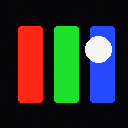2 circle: (85, 36, 111, 62)
